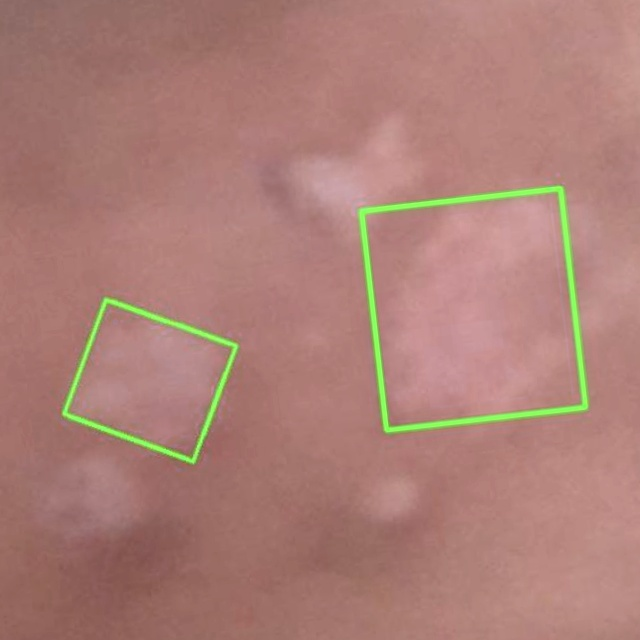Eczema: (361, 188, 585, 430), (63, 299, 235, 462)
